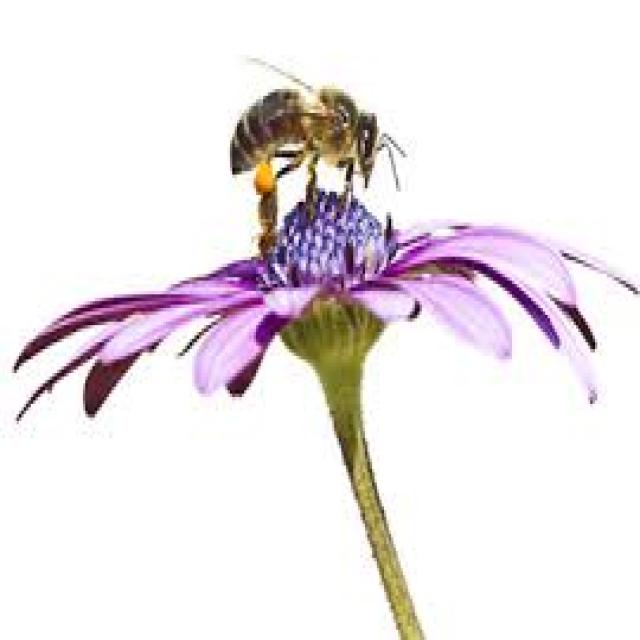Bees: (228, 54, 407, 215)
